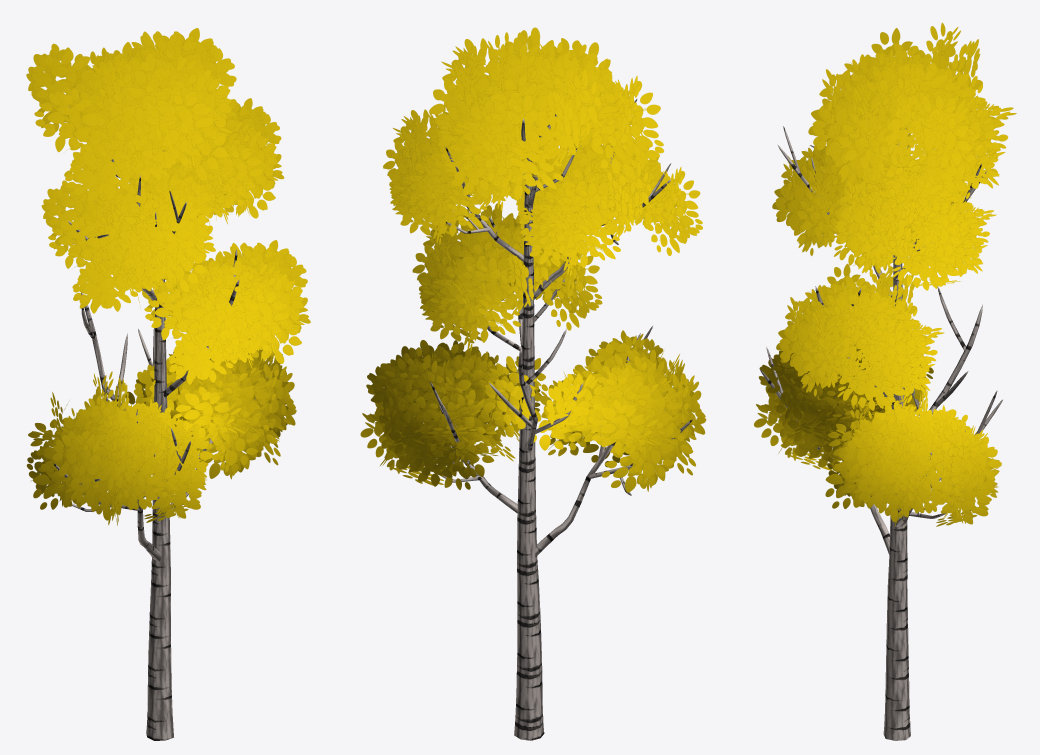
Rendered from quaternius-nature-birch-2.glb.
3 views of the same model, side by side, from view 1: azimuth 30°, elevation 25°; view 2: azimuth 150°, elevation 25°; view 3: azimuth 270°, elevation 25° (orthographic). The views are drawn at different scales.
Parts seen in each view (by area): view 1: BirchTree_2; view 2: BirchTree_2; view 3: BirchTree_2.
Boxes of the visible parts, left/top/right/bottom form: BirchTree_2: left=26, top=28, right=310, bottom=740; BirchTree_2: left=360, top=27, right=706, bottom=740; BirchTree_2: left=754, top=22, right=1016, bottom=740.
Size of the model in its own units: 3.35 by 7.57 by 2.81.
Materials: 2 (2 with a texture image).
